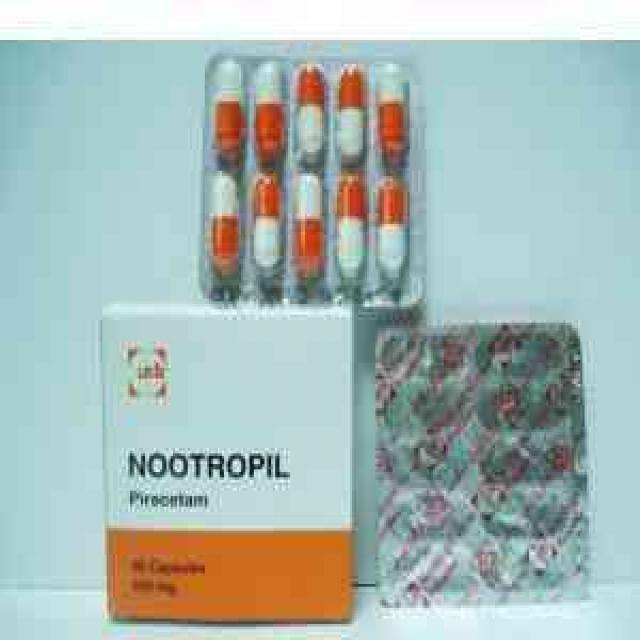drug-name: (126, 449, 296, 481)
